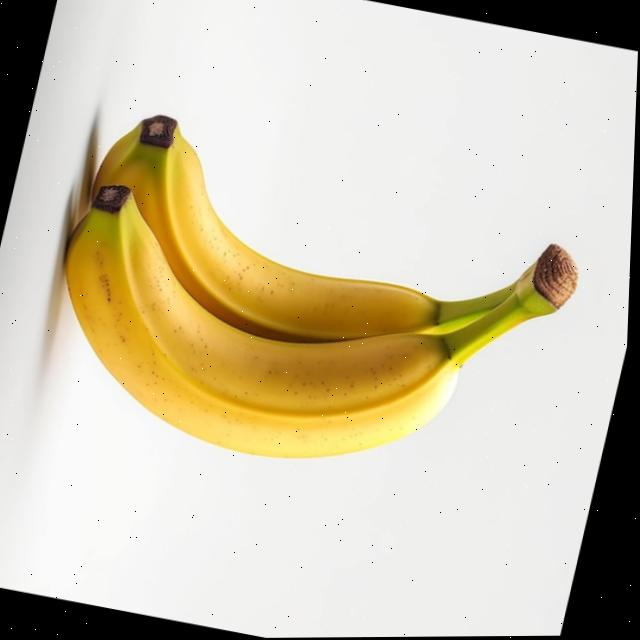Banana: (68, 115, 579, 459)
